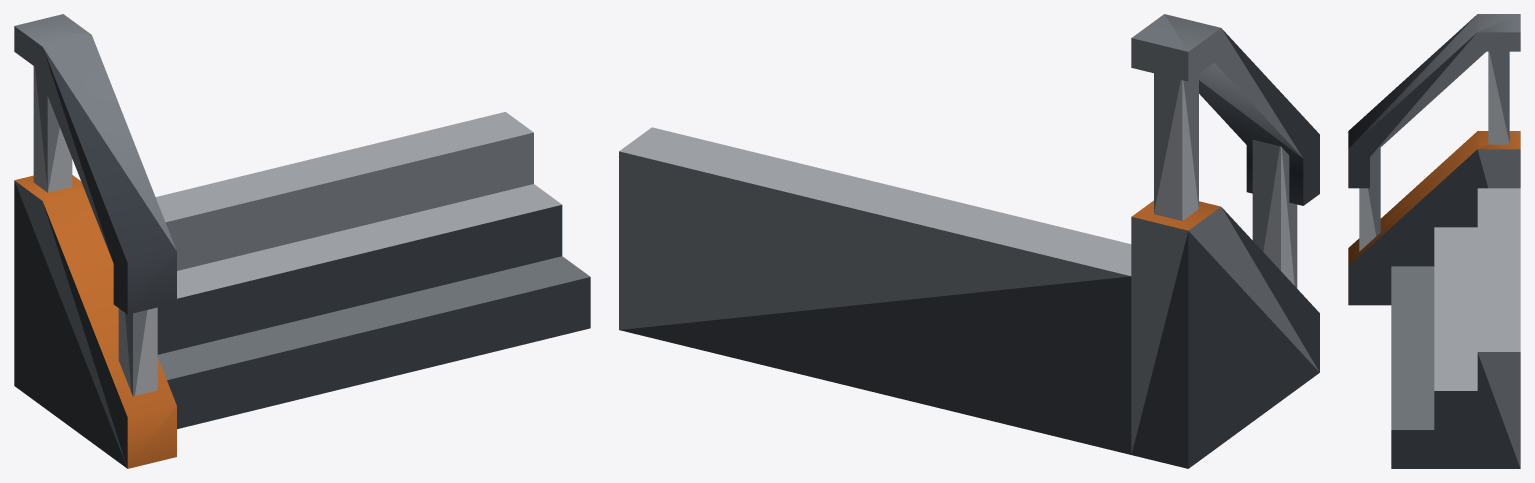
Rendered from Kit_stairs-small-edge-handrail.fbx.
3 renders of one model, left to right at view 1: azimuth 30°, elevation 25°; view 2: azimuth 150°, elevation 25°; view 3: azimuth 270°, elevation 25°, orthographic. The views are drawn at different scales.
Visible parts, largest first — view 1: Kit_stairs-small-edge-handrail; view 2: Kit_stairs-small-edge-handrail; view 3: Kit_stairs-small-edge-handrail.
Part boxes in pixels (x1,y1,x2,y2): Kit_stairs-small-edge-handrail: (14, 14, 590, 468); Kit_stairs-small-edge-handrail: (619, 14, 1319, 468); Kit_stairs-small-edge-handrail: (1348, 14, 1520, 468).
Size of the model in its own units: 1 by 0.7 by 0.4.
